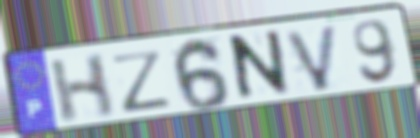6: (169, 35, 233, 113)
9: (351, 19, 401, 85)
H: (47, 51, 117, 127)
N: (230, 27, 293, 107)
V: (282, 22, 341, 94)
Z: (107, 47, 174, 115)
